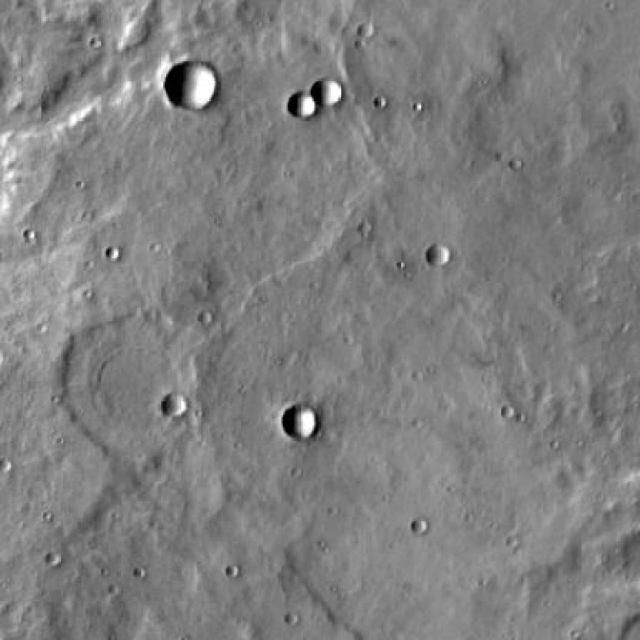crater: (51, 318, 200, 462), (169, 62, 220, 110), (280, 410, 314, 442), (286, 92, 314, 120), (312, 80, 339, 106), (162, 396, 183, 418), (427, 245, 447, 263), (410, 519, 427, 536)
